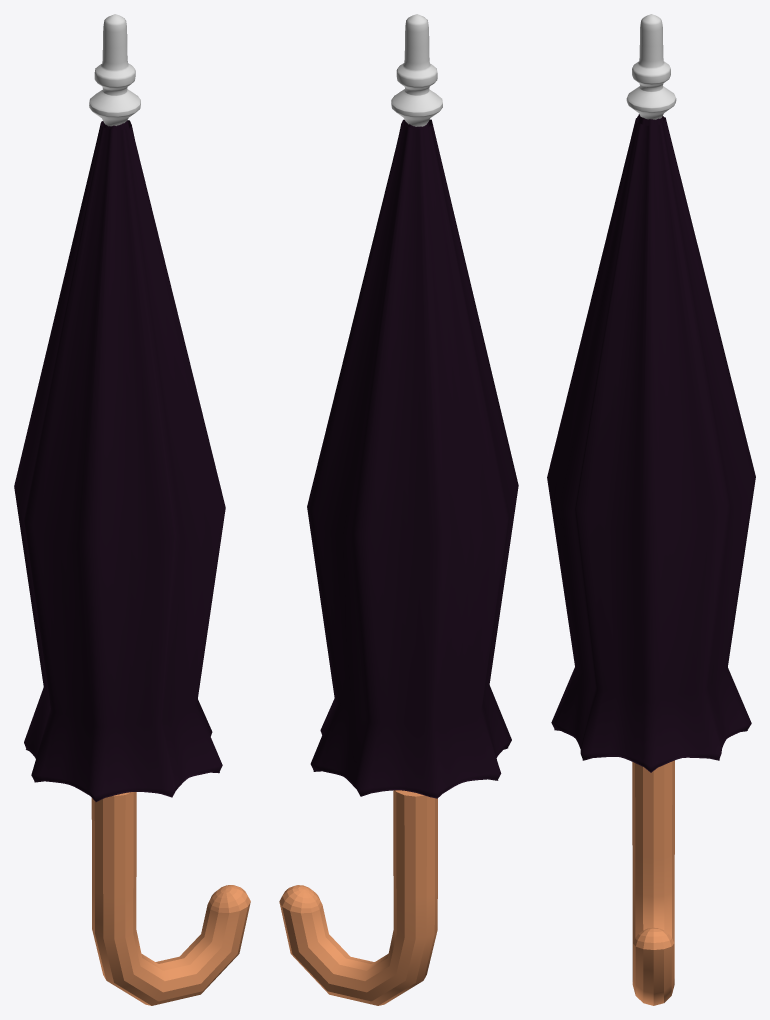
The model's file is UmbrellaClosed.fbx.
3 views of the same model, side by side, from view 1: azimuth 30°, elevation 25°; view 2: azimuth 150°, elevation 25°; view 3: azimuth 270°, elevation 25° (orthographic). The views are drawn at different scales.
Parts seen in each view (by area): view 1: UmbrellaClosed; view 2: UmbrellaClosed; view 3: UmbrellaClosed.
Boxes of the visible parts, left/top/right/bottom form: UmbrellaClosed: left=14, top=14, right=250, bottom=1005; UmbrellaClosed: left=279, top=14, right=518, bottom=1005; UmbrellaClosed: left=547, top=14, right=755, bottom=1005.
Size of the model in its own units: 23.59 by 100 by 19.93.
